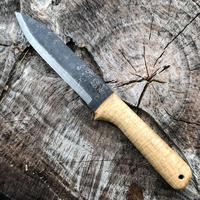knife: (13, 8, 183, 178)
